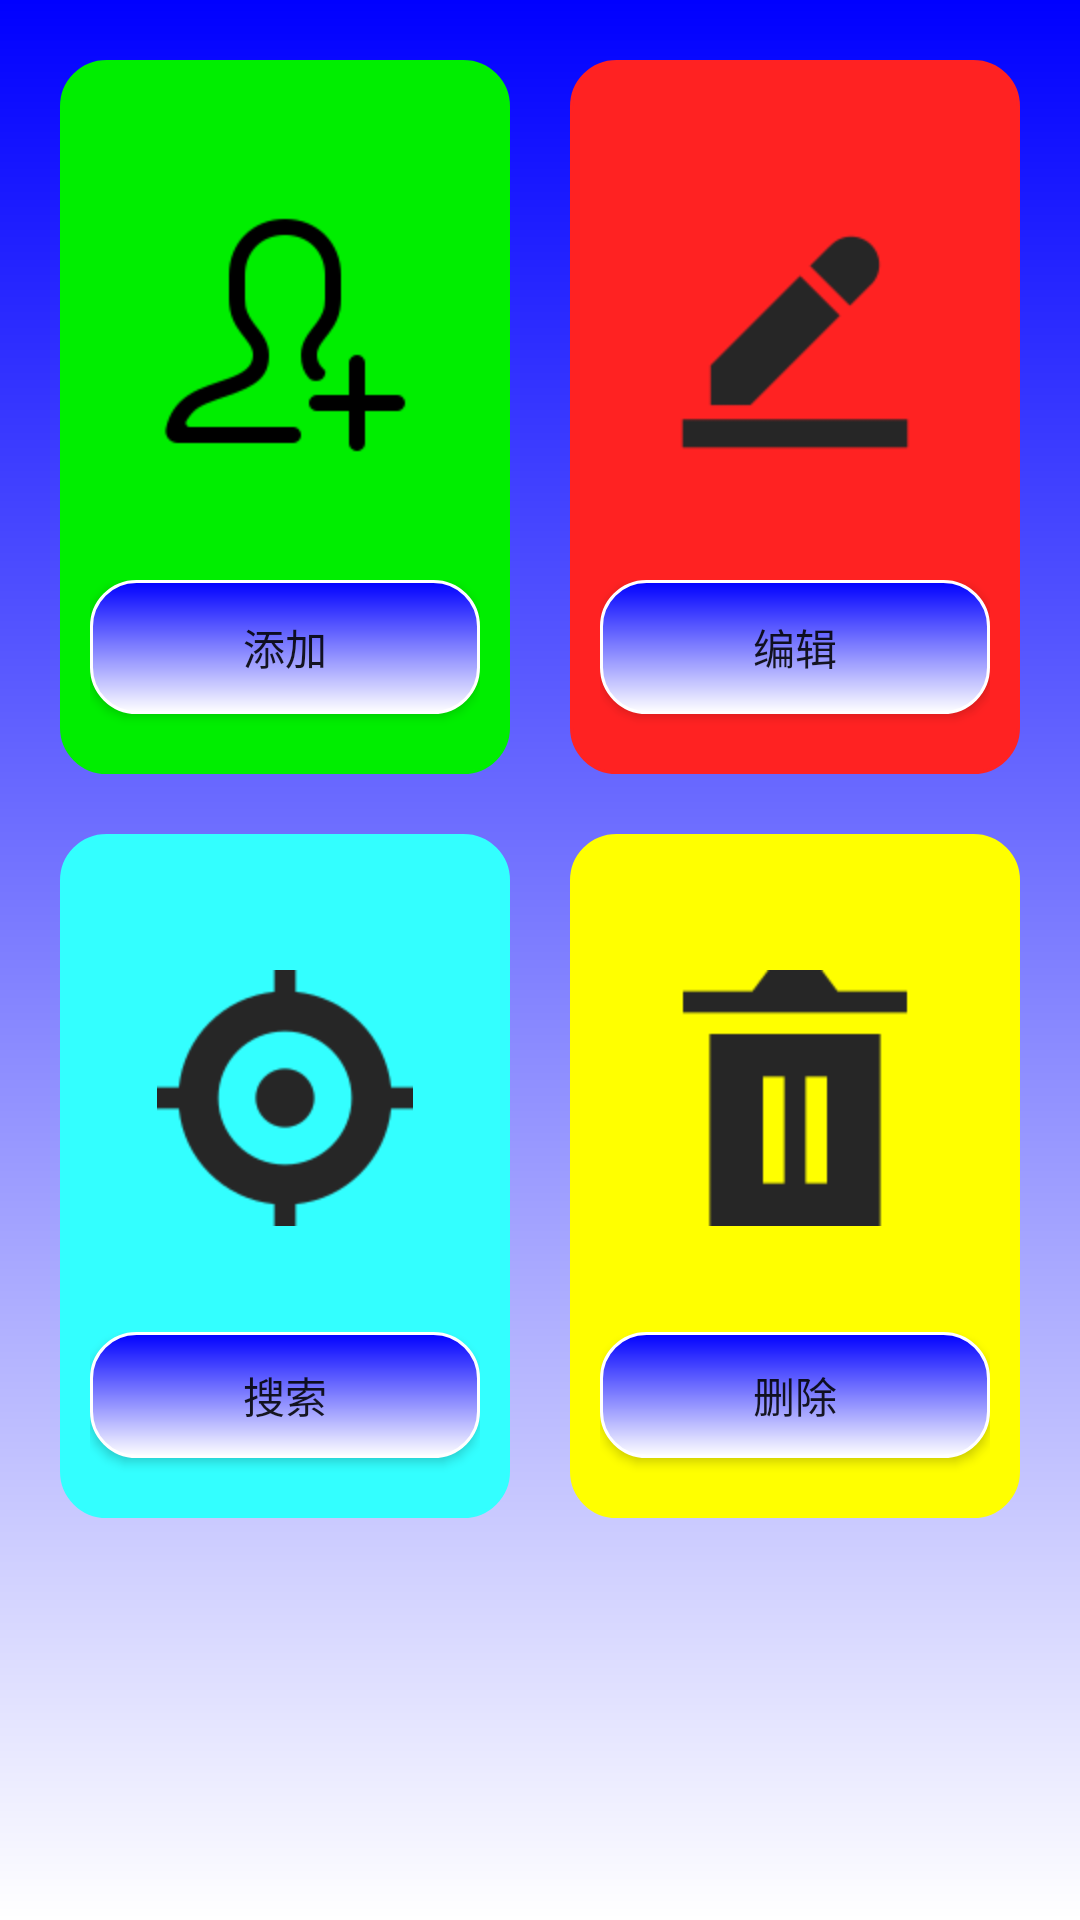

Icons on this 1080w x 1920h Android screen, each with its box as [x1,y1,x2,y2]:
bian ji: [681,235,909,449]
shan chu: [682,970,908,1226]
tian jia: [164,218,406,452]
